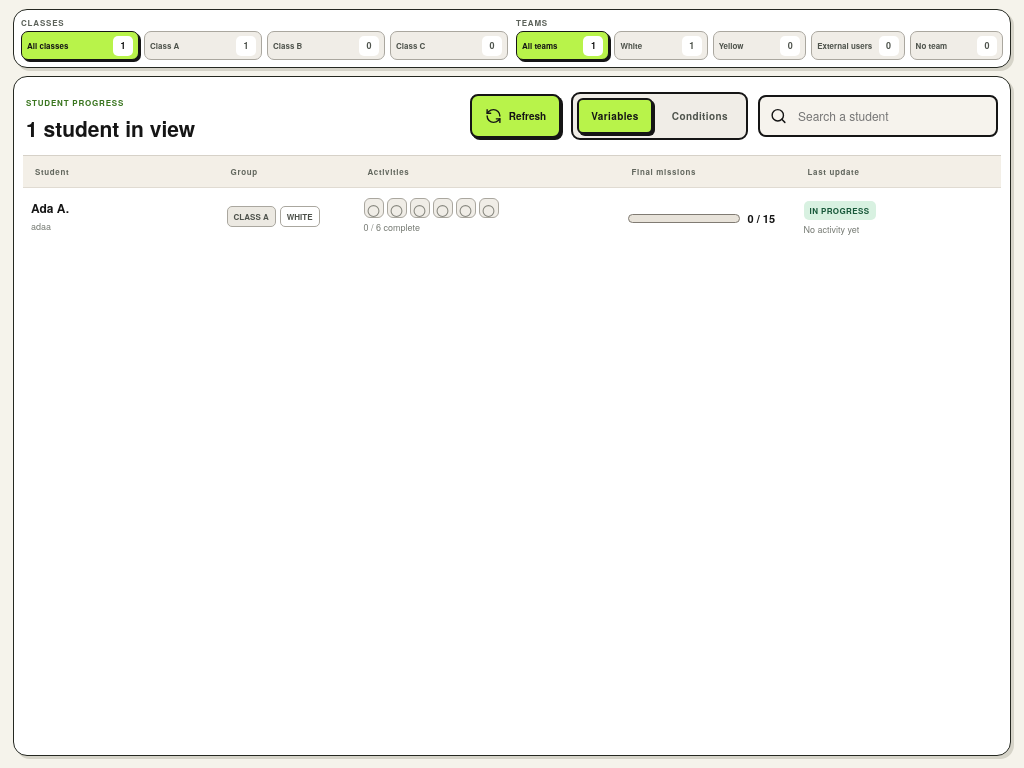
it: TeacherDashboard › counts only available activities and reports steps, reasoning, and endless run totals
Expected: the heading "1 student in view" is shown, x1=26 y1=113 x2=195 y2=143
Click the button "Conditions": click(700, 116) x1=658 y1=98 x2=742 y2=134
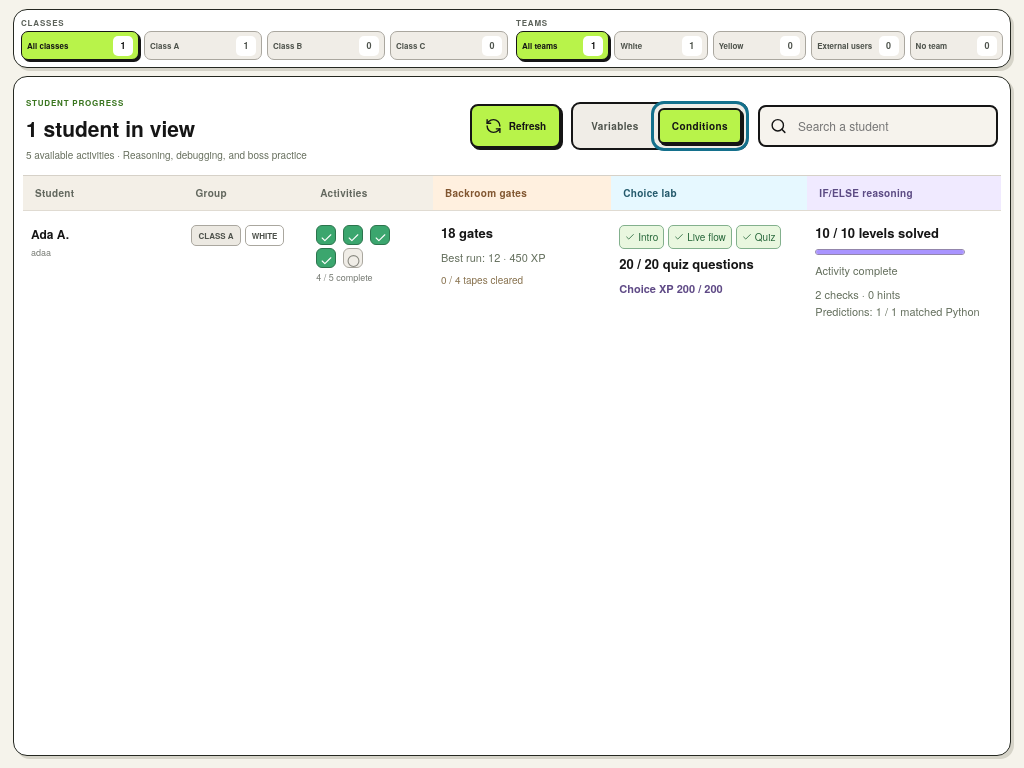
Now the element named "4 of 5 activities complete" is shown, box x1=316 y1=225 x2=390 y2=268
Now the text "18 gates" is shown, box x1=441 y1=225 x2=493 y2=242
Now the text "Best run: 12 · 450 XP" is shown, box x1=441 y1=249 x2=546 y2=266
